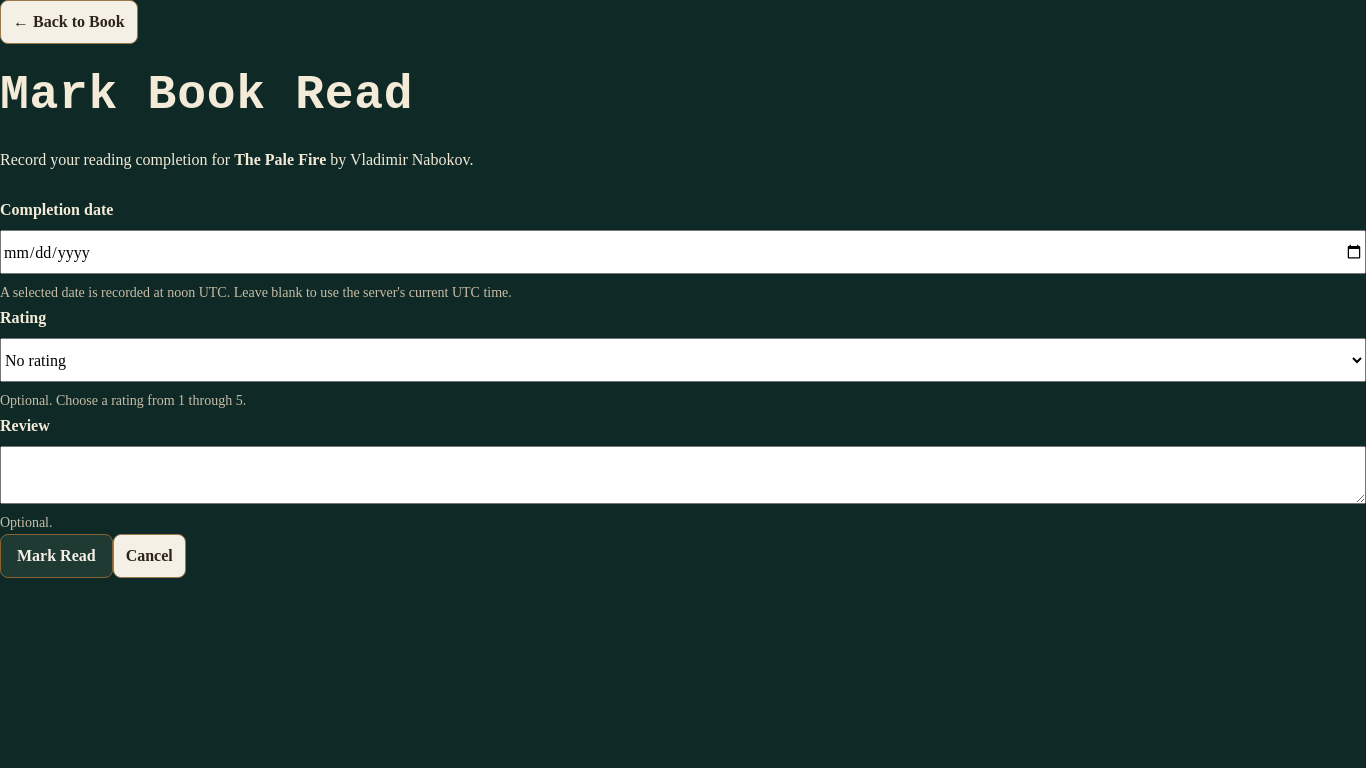
Test: MarkReadPage › maps backend 422 errors to fields and preserves input
The image size is (1366, 768).
In the text box labelled "Review": [683, 475] box [0, 446, 1365, 504], type "Keep this draft."
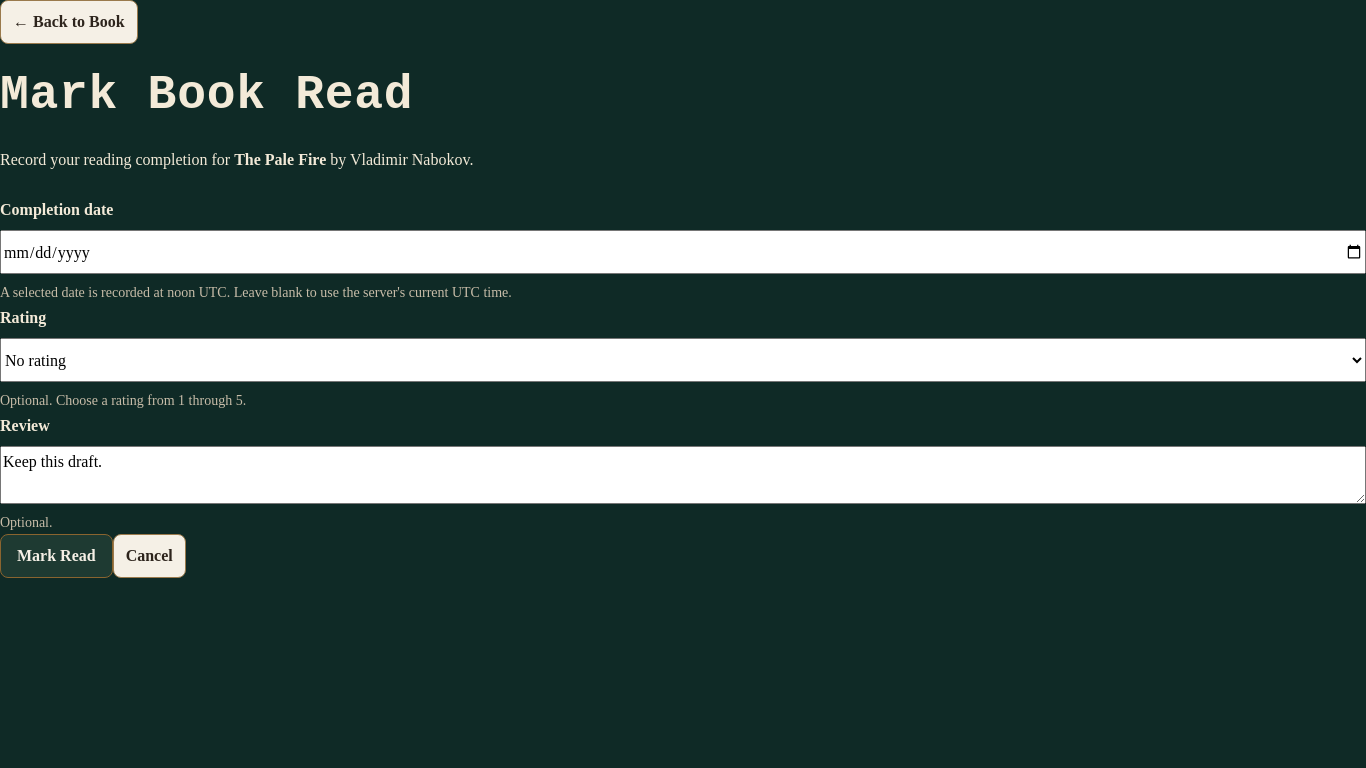
Click the button "Mark Read": [56, 556] box [0, 534, 113, 578]
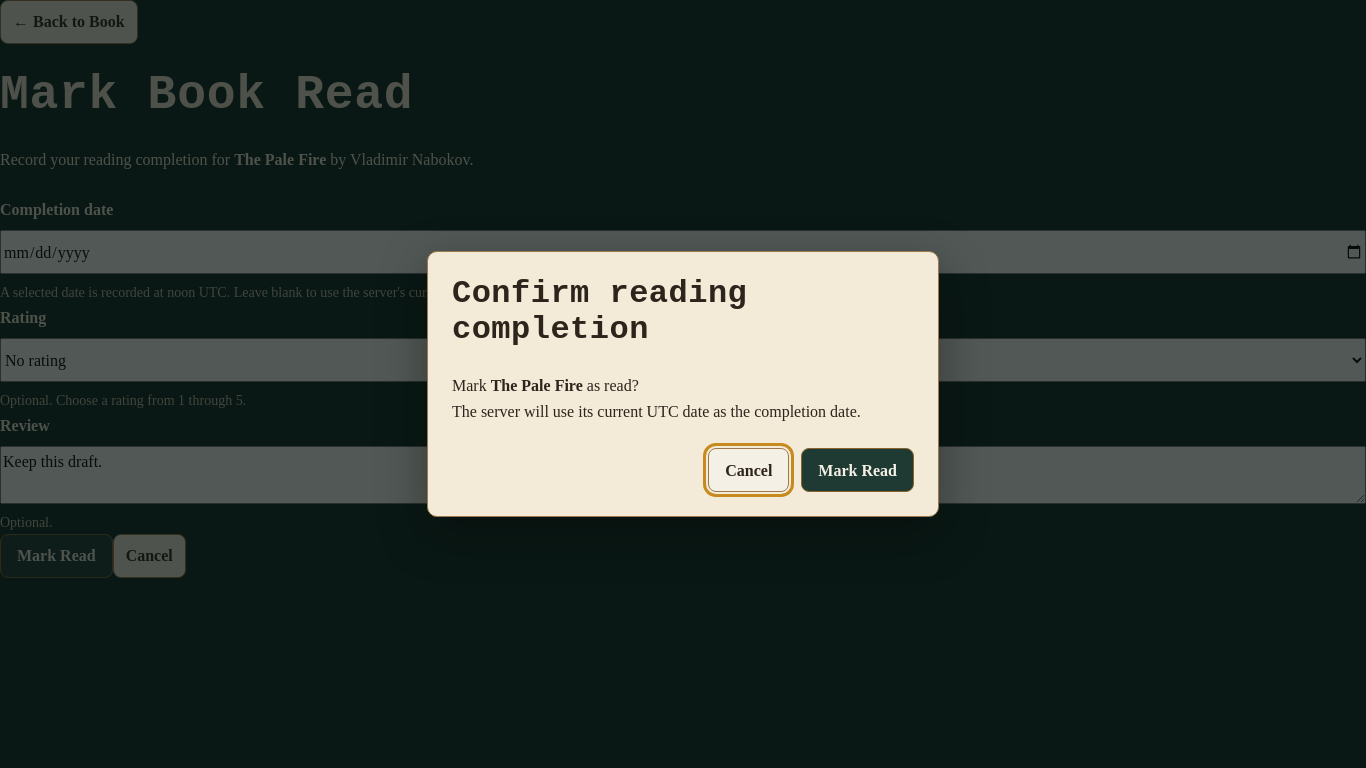
Click the button "Mark Read": [858, 470] box [801, 448, 914, 492]
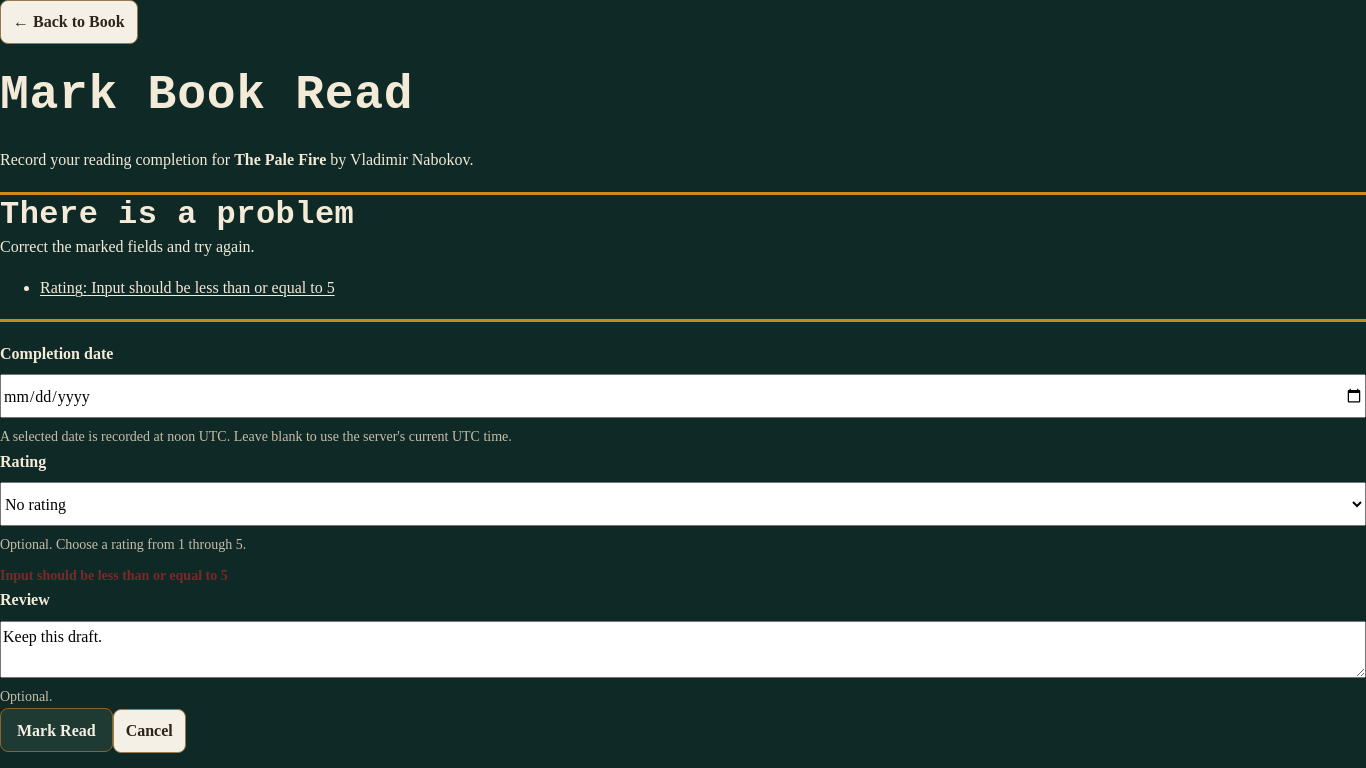
Now the message shows "Correct the marked fields and try again.", box [0, 238, 255, 255]
